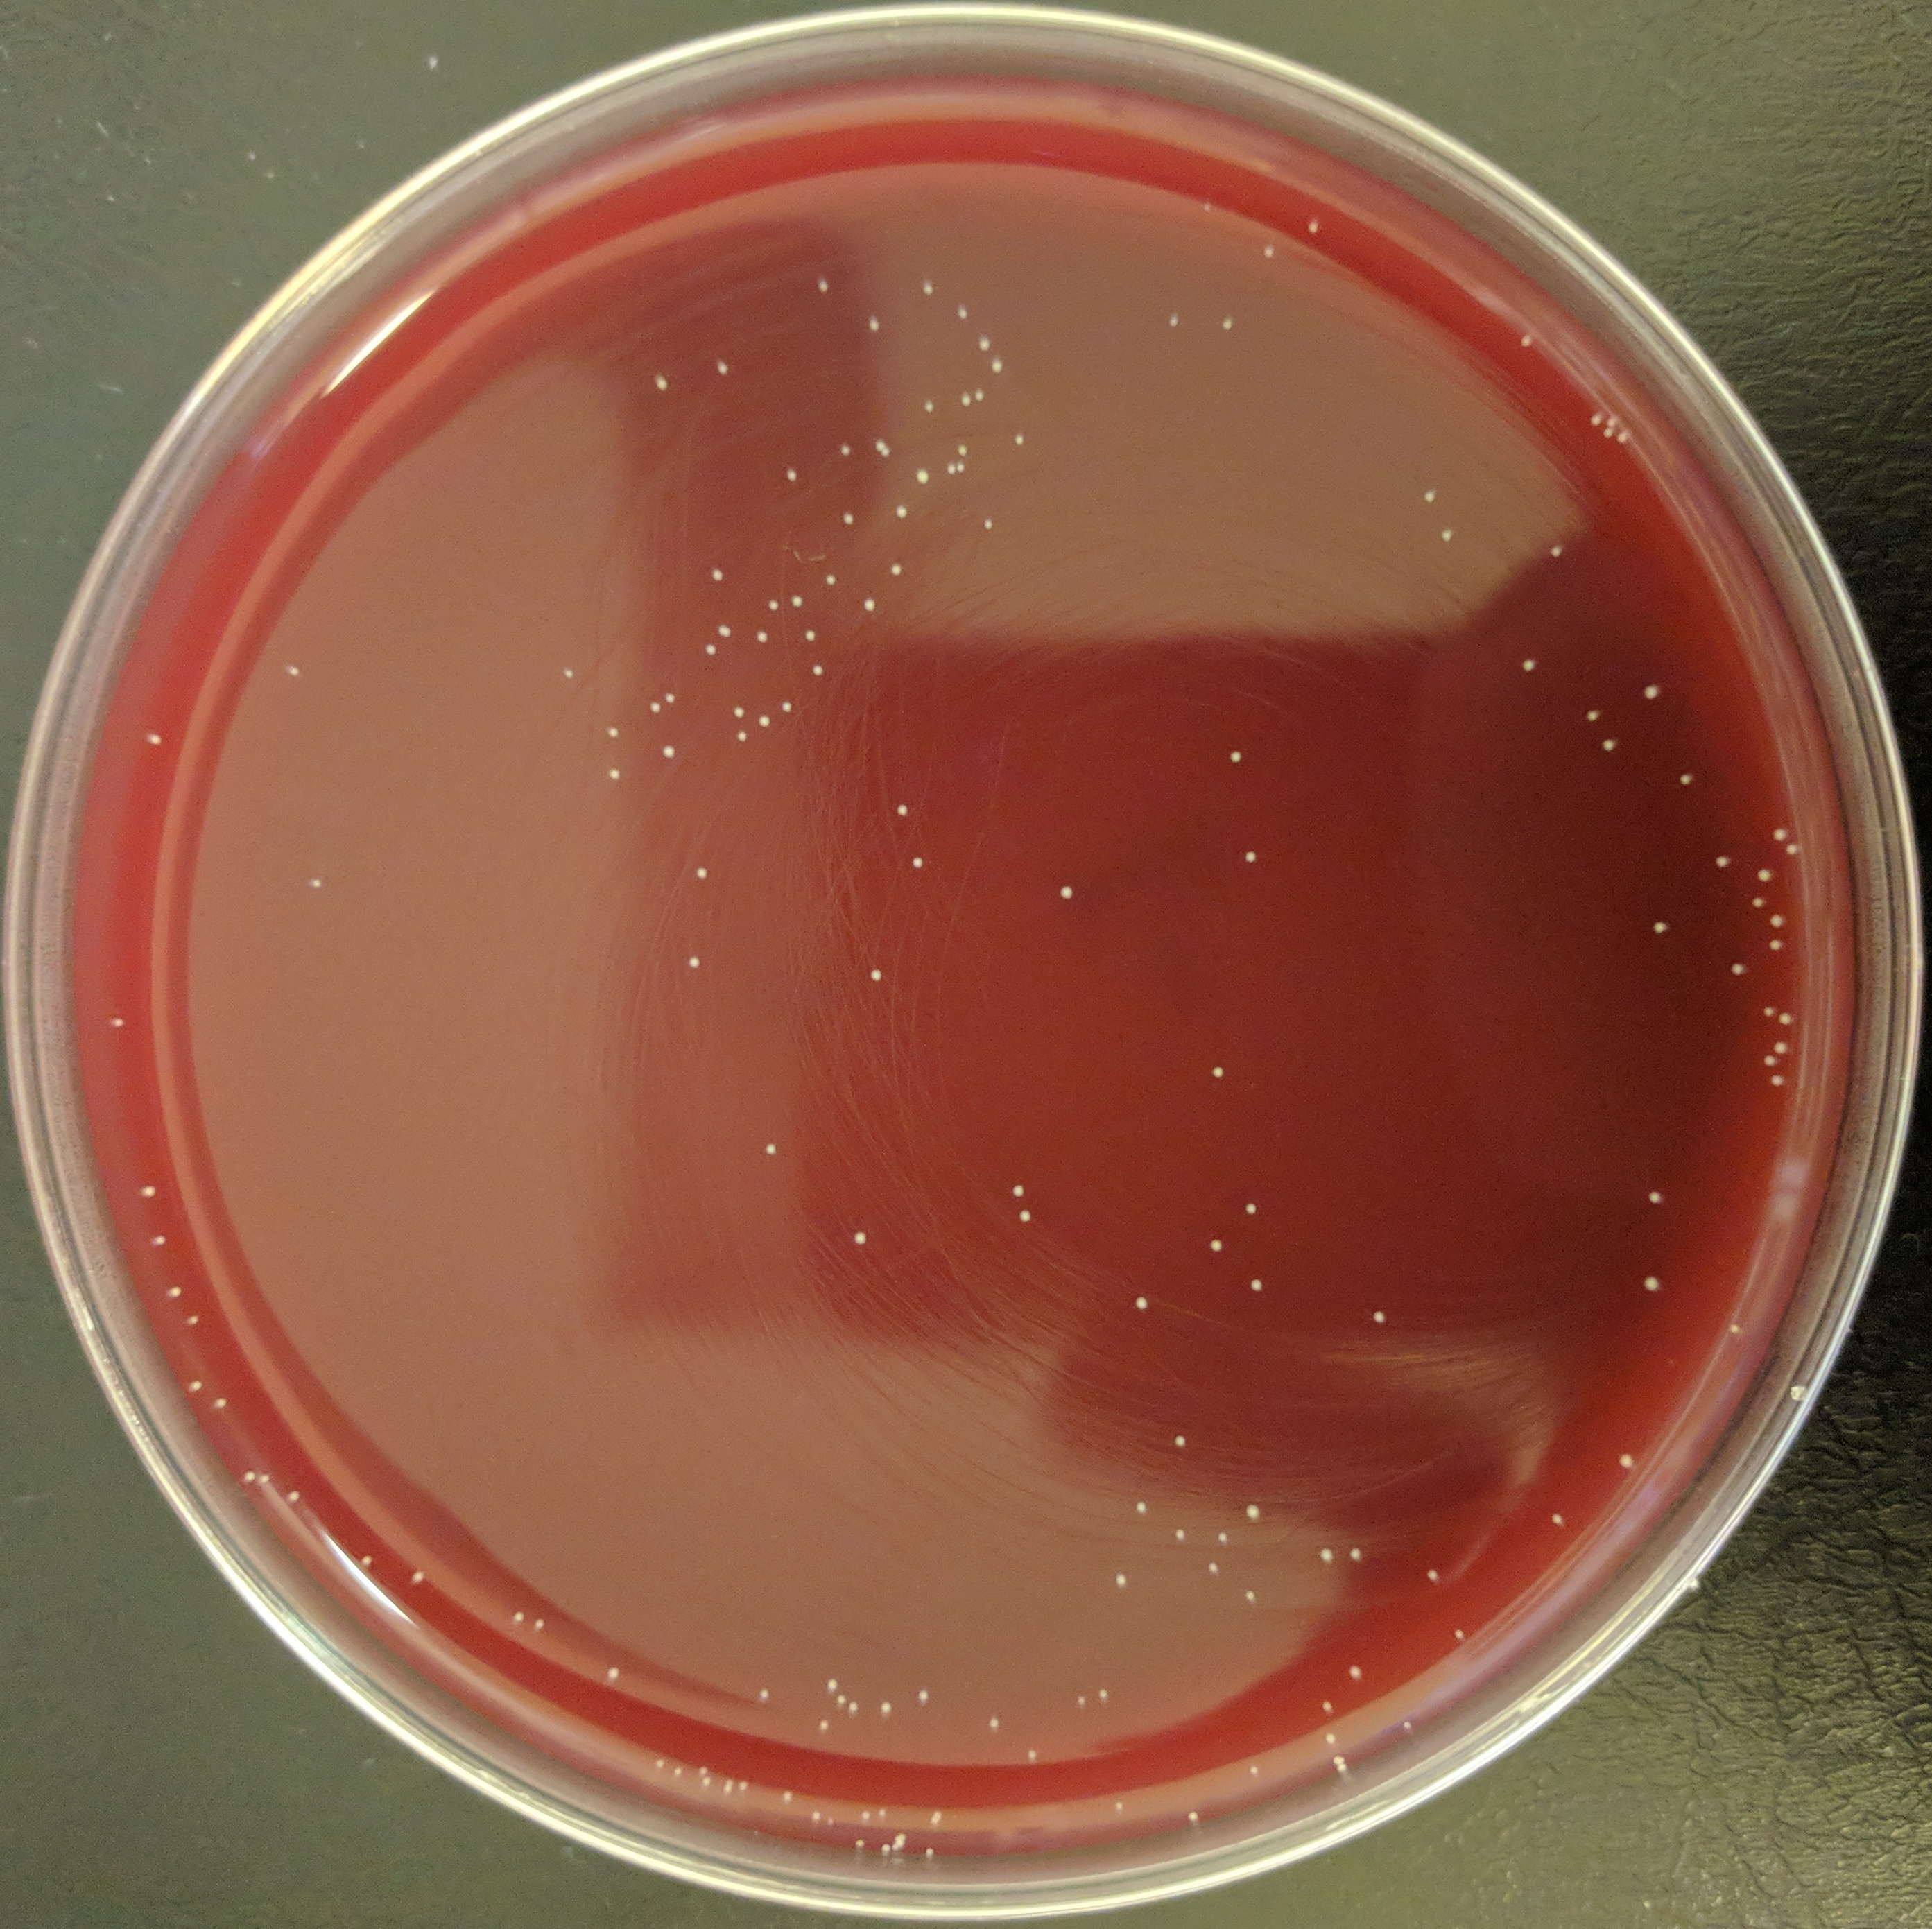sp09: (646, 367, 675, 396), (809, 272, 839, 297), (777, 461, 802, 489), (834, 436, 858, 463), (1637, 680, 1662, 705), (1639, 1272, 1664, 1297), (708, 355, 735, 378), (862, 313, 887, 336), (756, 1139, 786, 1157), (1519, 655, 1542, 678), (184, 1374, 207, 1397), (1513, 330, 1535, 355), (909, 465, 931, 489), (973, 330, 996, 352), (1243, 1500, 1264, 1523), (1317, 1542, 1339, 1565), (143, 728, 168, 747), (1598, 738, 1619, 760), (918, 396, 940, 417), (606, 765, 627, 786), (408, 1565, 429, 1586), (1754, 864, 1775, 885), (1305, 216, 1324, 238), (892, 800, 915, 820), (659, 687, 682, 707), (1056, 883, 1079, 903), (106, 1012, 129, 1032), (138, 1180, 161, 1199), (1261, 240, 1279, 265), (1579, 707, 1604, 724), (754, 624, 772, 648), (1127, 1293, 1153, 1309), (1219, 313, 1238, 334), (1008, 429, 1030, 449), (715, 622, 736, 641), (908, 851, 927, 873), (867, 964, 888, 984), (1021, 1744, 1040, 1765), (1171, 1429, 1190, 1450), (1713, 851, 1734, 871), (1224, 747, 1247, 765), (1676, 774, 1699, 791), (210, 1396, 233, 1413), (915, 1683, 932, 1706), (1240, 1586, 1263, 1604), (1422, 1565, 1445, 1583), (1725, 959, 1748, 977), (1584, 408, 1604, 427), (989, 357, 1008, 376), (860, 595, 879, 615), (876, 1698, 895, 1717), (1347, 1542, 1367, 1562), (1206, 1235, 1226, 1254), (1162, 313, 1183, 330), (977, 516, 998, 533), (971, 382, 989, 403), (894, 502, 911, 523), (710, 565, 728, 586), (604, 1660, 622, 1682), (1549, 1509, 1566, 1530), (918, 274, 934, 297), (558, 664, 581, 680), (1328, 1752, 1351, 1768), (1649, 919, 1672, 934), (1438, 526, 1455, 546), (1420, 488, 1439, 505), (952, 438, 971, 456), (802, 624, 819, 643), (701, 639, 719, 659), (283, 661, 300, 680), (645, 698, 664, 715), (692, 862, 710, 881), (685, 954, 705, 972), (240, 1464, 258, 1484), (849, 1229, 867, 1249), (1072, 1689, 1090, 1708), (1317, 1696, 1337, 1713), (1347, 1660, 1365, 1680), (1247, 1274, 1266, 1291), (1644, 1189, 1664, 1207), (1616, 1449, 1634, 1468), (1770, 912, 1789, 929), (1014, 1207, 1033, 1224), (721, 1777, 735, 1800), (823, 571, 841, 588), (660, 742, 678, 760), (164, 1282, 182, 1300), (1778, 1009, 1796, 1026), (1759, 1002, 1777, 1019), (807, 1807, 823, 1827), (984, 1713, 1003, 1729), (1111, 1570, 1130, 1586), (1370, 1307, 1386, 1327), (1241, 1201, 1261, 1217), (1725, 1318, 1741, 1337), (1768, 1070, 1787, 1086), (1771, 1037, 1791, 1053), (1784, 841, 1803, 857), (1243, 846, 1257, 867), (1747, 896, 1768, 910), (1551, 541, 1563, 564), (931, 1804, 943, 1827), (954, 306, 970, 323), (841, 511, 857, 528), (888, 562, 904, 579), (788, 592, 805, 608), (284, 1486, 300, 1503), (510, 1606, 526, 1623), (1132, 1498, 1150, 1514), (1759, 1051, 1777, 1067), (1773, 823, 1789, 841), (1616, 433, 1635, 447), (307, 876, 327, 890), (602, 726, 622, 740), (148, 1231, 168, 1245), (848, 1698, 862, 1717), (738, 1775, 752, 1795), (1183, 1809, 1203, 1823), (1768, 938, 1787, 952), (1008, 1182, 1028, 1196), (733, 703, 749, 719), (1210, 1065, 1226, 1081), (185, 1311, 201, 1327), (533, 1615, 549, 1630), (922, 1844, 938, 1860), (1450, 1625, 1466, 1641), (1321, 1729, 1337, 1745), (766, 595, 781, 613), (809, 664, 826, 678), (759, 714, 774, 731), (834, 1691, 848, 1708), (669, 1765, 687, 1779), (1095, 1683, 1109, 1701), (955, 459, 968, 479), (759, 1683, 772, 1703), (943, 459, 954, 480), (869, 435, 885, 449), (781, 698, 795, 714), (735, 730, 749, 745), (360, 1551, 376, 1565), (814, 1717, 830, 1731), (853, 1835, 869, 1850), (1241, 1763, 1263, 1774), (1171, 1526, 1187, 1540), (957, 390, 970, 408), (879, 443, 892, 461), (895, 1828, 908, 1846), (1605, 413, 1619, 427), (825, 1676, 839, 1691), (781, 1788, 795, 1802), (1206, 1560, 1220, 1574), (858, 1807, 871, 1823), (1335, 1765, 1351, 1777), (260, 1471, 274, 1484), (653, 1754, 666, 1768), (825, 1816, 839, 1828), (1111, 1798, 1125, 1811), (1215, 1530, 1229, 1542), (698, 1761, 712, 1772), (701, 1775, 712, 1789), (1400, 1719, 1415, 1729), (879, 1805, 888, 1818), (879, 1842, 892, 1851)
